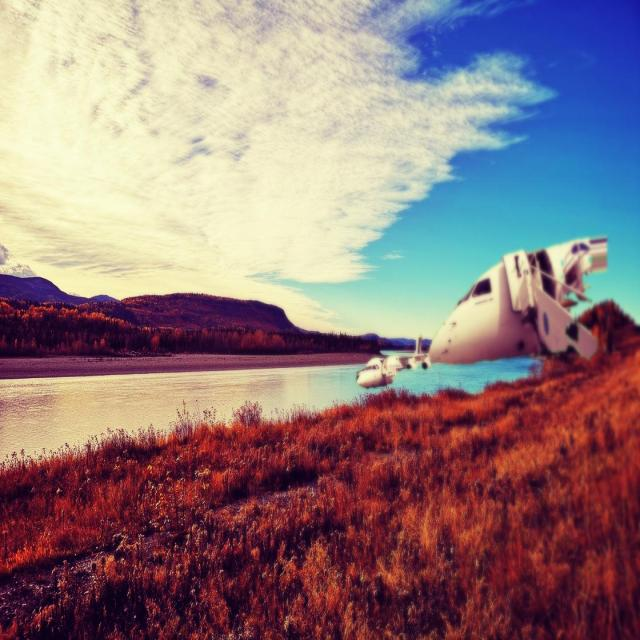airplane: (433, 234, 607, 359), (356, 335, 431, 388)
